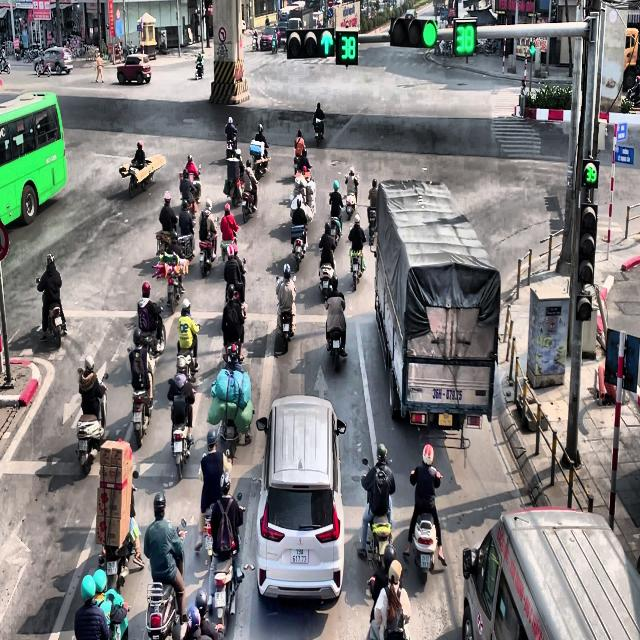lisence_plate: (431, 386, 463, 402), (436, 411, 454, 428), (290, 548, 309, 564)
